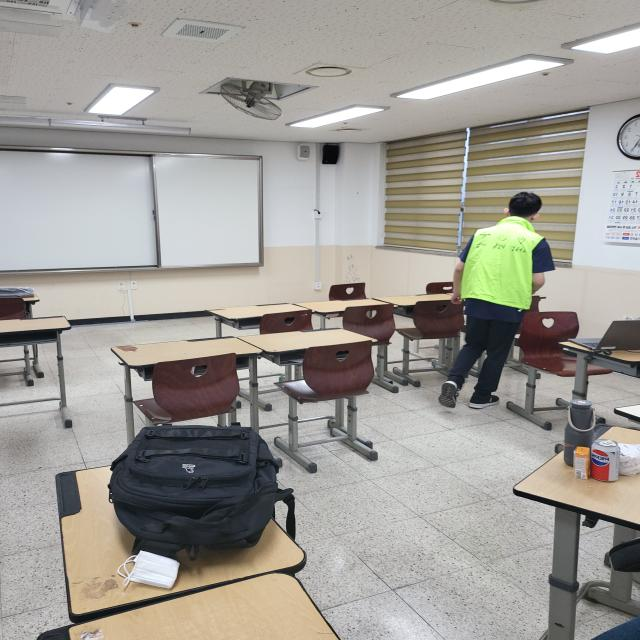weston_spy: (456, 208, 547, 312)
